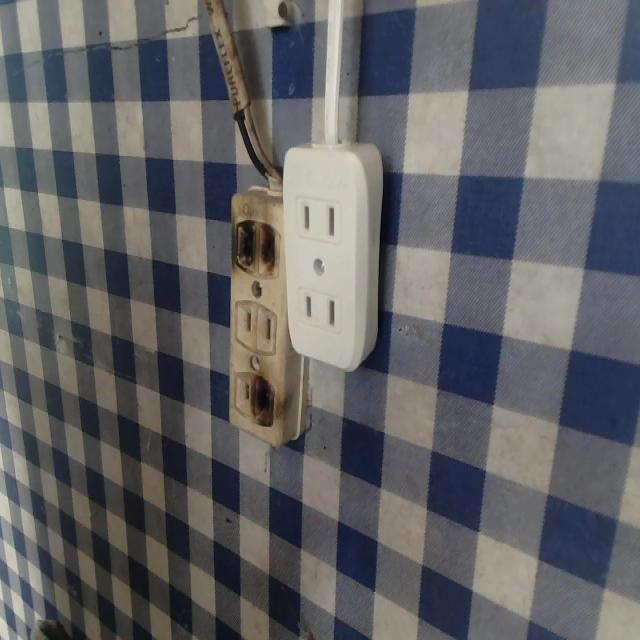-: (228, 216, 281, 280), (247, 372, 279, 431)
